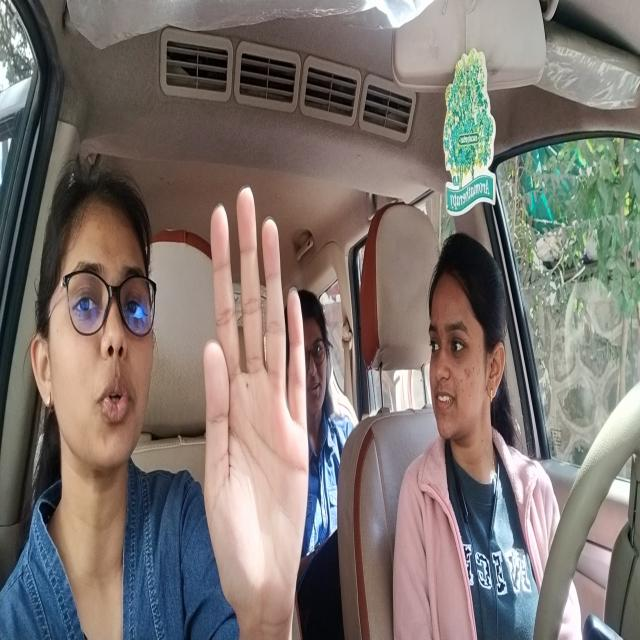LeftRight: (428, 242, 506, 442)
person: (45, 171, 159, 465), (298, 287, 329, 417)
